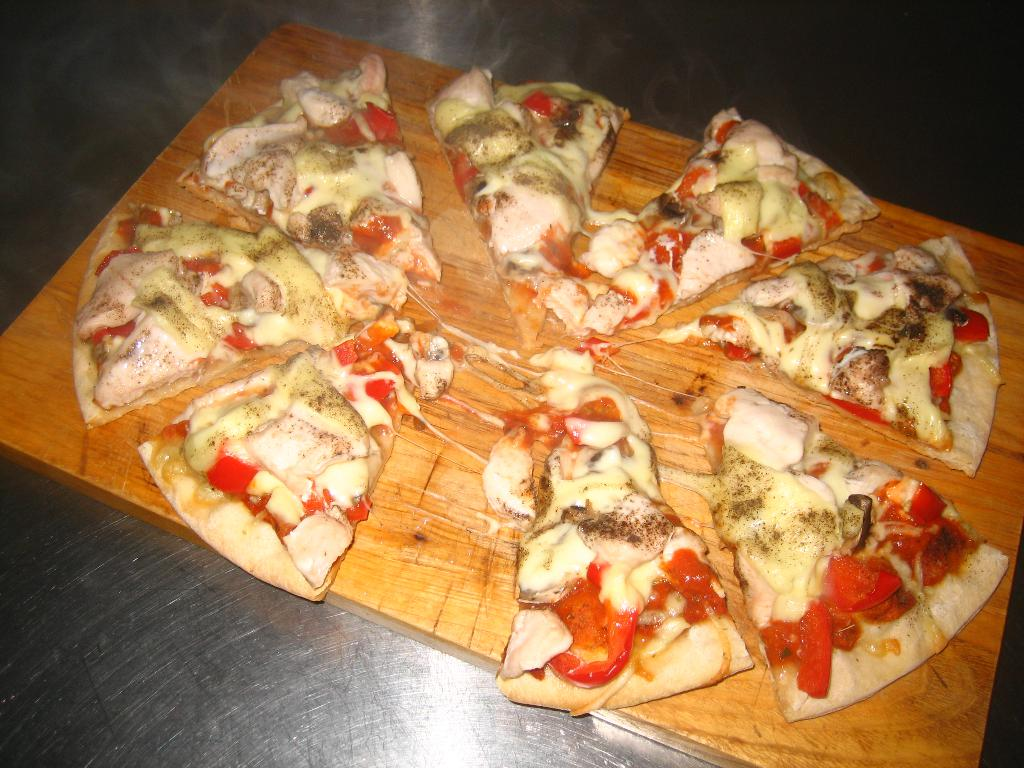pizza: (687, 408, 1019, 714), (484, 348, 749, 710), (651, 227, 1007, 477), (67, 193, 394, 430), (143, 317, 388, 617), (578, 99, 890, 330), (187, 43, 450, 286), (428, 65, 618, 353)
